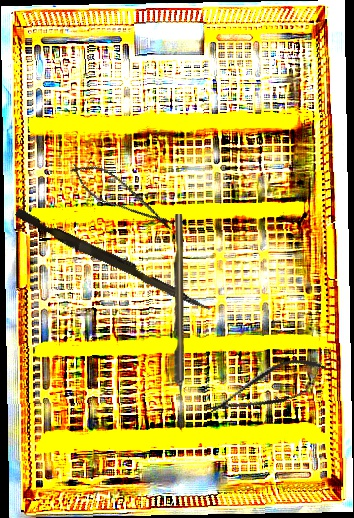Hook Surgical: (174, 214, 184, 409)
Micro Scissor: (200, 348, 333, 430), (63, 154, 182, 239)
Pusher: (11, 207, 216, 314)
